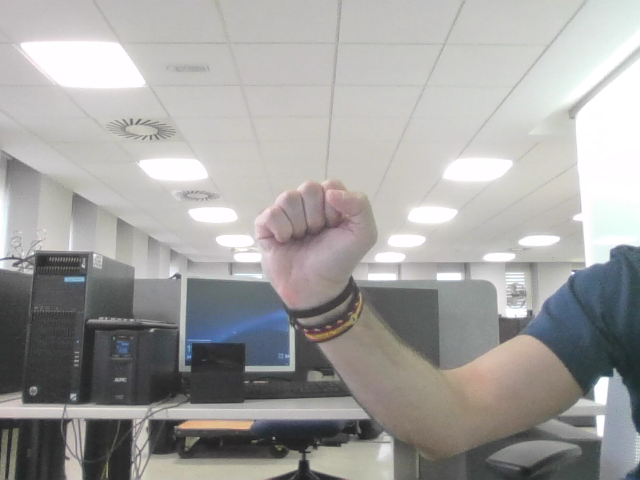Puño: (272, 187, 358, 266)
